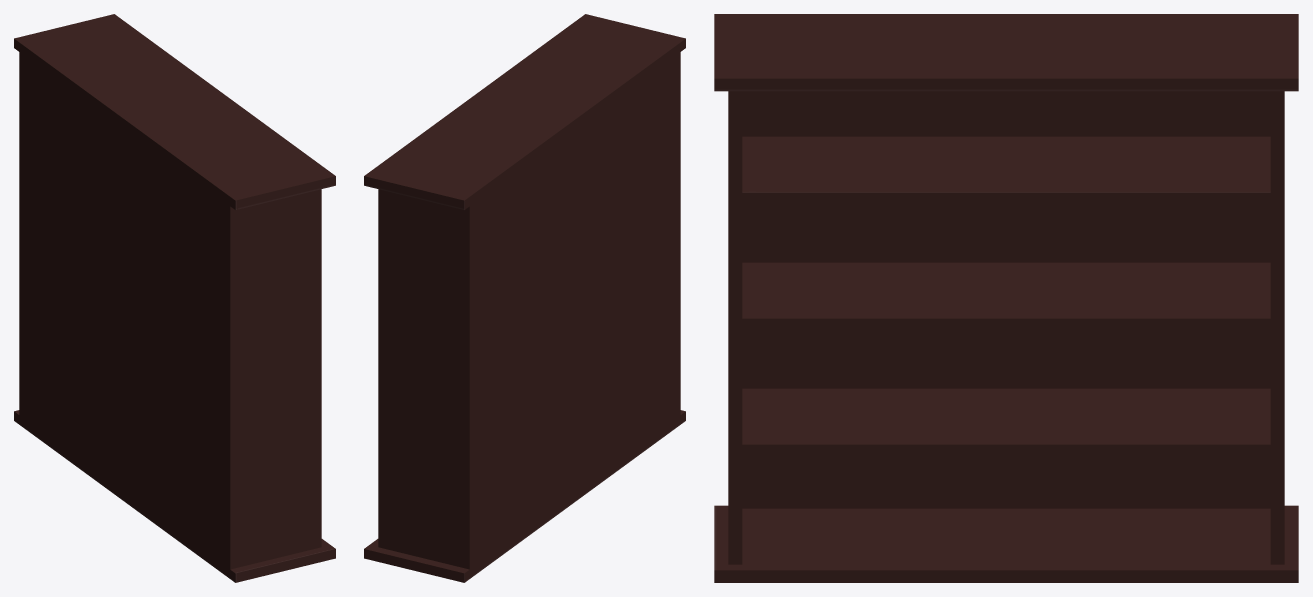
File: bookshelf.fbx
The picture shows the model from 3 angles, left to right: view 1: azimuth 30°, elevation 25°; view 2: azimuth 150°, elevation 25°; view 3: azimuth 270°, elevation 25°; orthographic projection. The views are drawn at different scales.
Parts seen in each view (by area): view 1: pCube1; view 2: pCube1; view 3: pCube1.
Part boxes in pixels (x1=…): pCube1: x1=14, y1=14, x2=335, y2=582; pCube1: x1=364, y1=14, x2=685, y2=582; pCube1: x1=714, y1=14, x2=1298, y2=582.
Size of the model in its own units: 110 by 400 by 420.
Materials: 1 (1 with a texture image).
